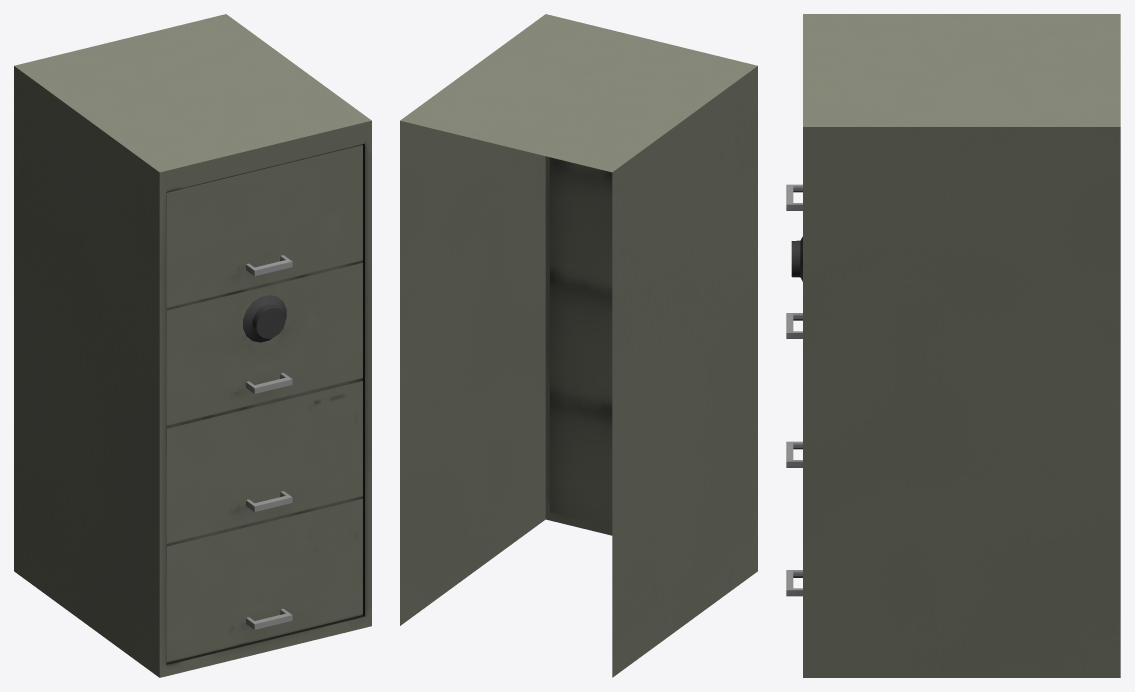
The model's file is Office_Safe4Drawer_LowPoly_1.fbx.
The picture shows the model from 3 angles, left to right: view 1: azimuth 30°, elevation 25°; view 2: azimuth 150°, elevation 25°; view 3: azimuth 270°, elevation 25°; orthographic projection. The views are drawn at different scales.
Visible parts, largest first — view 1: Office_Safe4Drawer; view 2: Office_Safe4Drawer; view 3: Office_Safe4Drawer.
Part boxes in pixels (x1,y1,x2,y2): Office_Safe4Drawer: [14, 14, 371, 677]; Office_Safe4Drawer: [400, 14, 757, 677]; Office_Safe4Drawer: [786, 14, 1120, 677].
Size of the model in its own units: 54.14 by 123 by 67.81.
